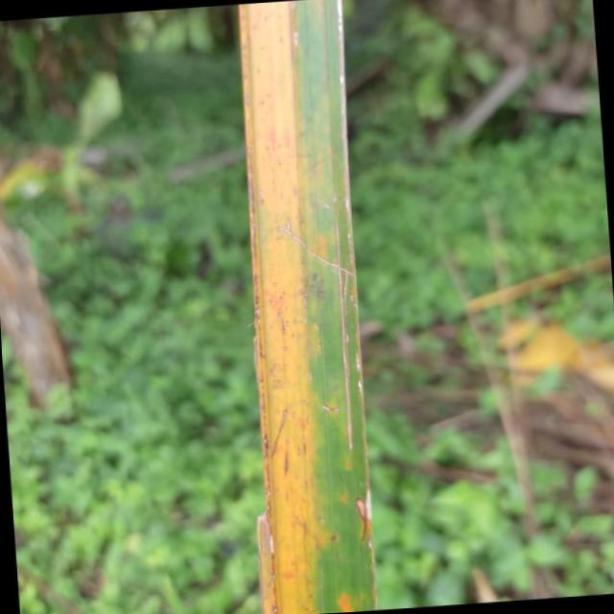Megnesium: (235, 0, 377, 614)
